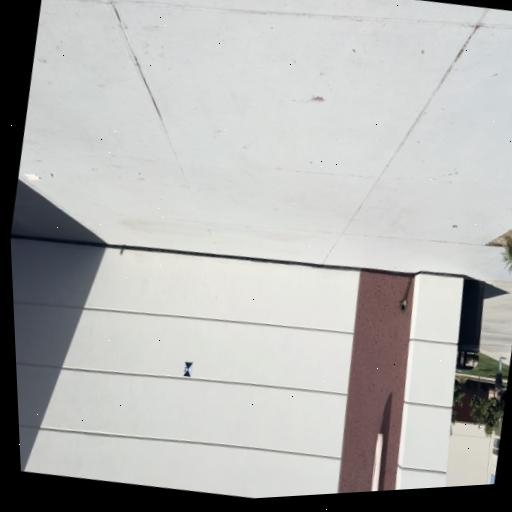target7: (182, 360, 194, 377)
